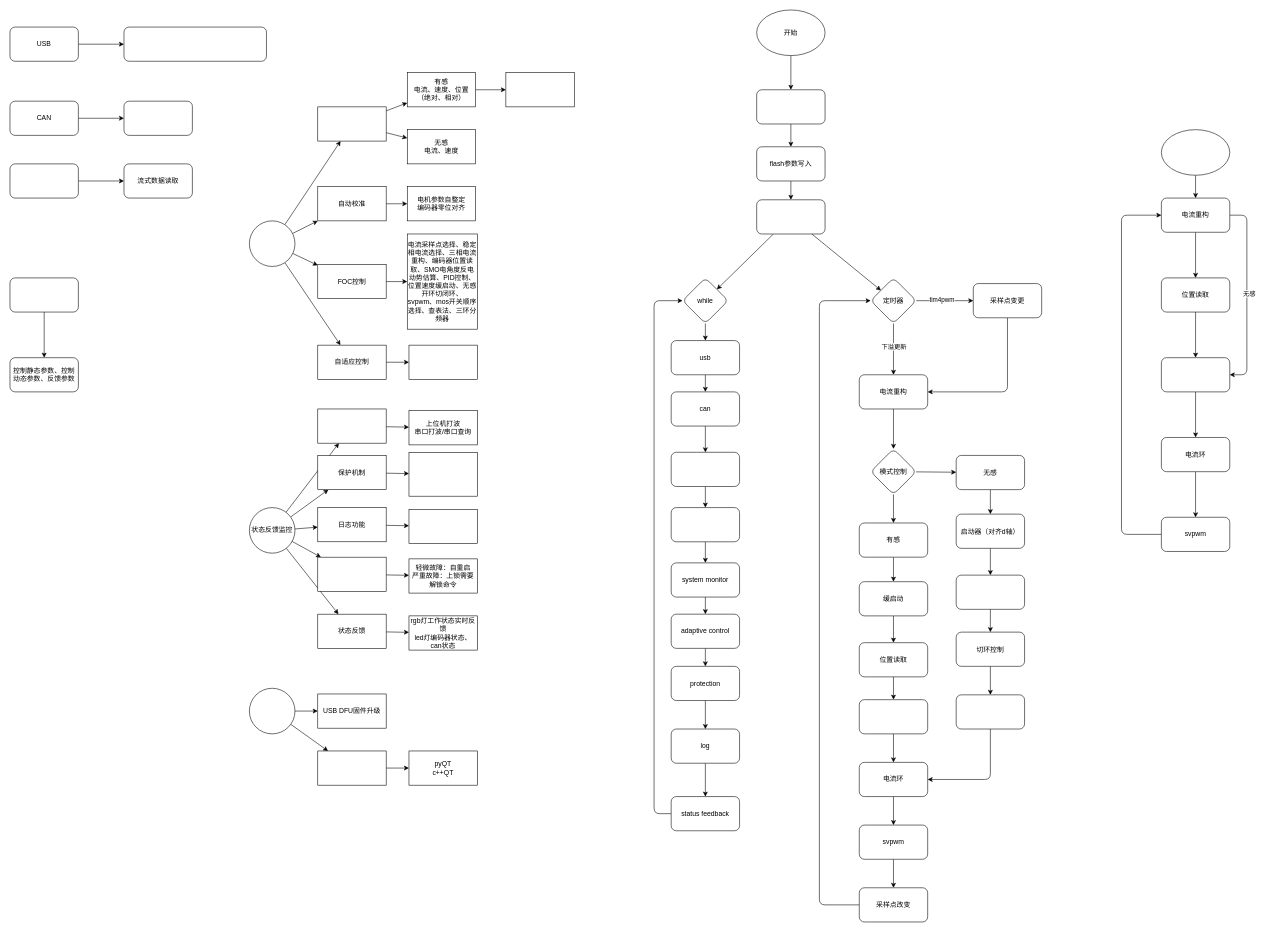
Image size: 1265x932. Some labels were removed from this diagram. Here are the shapes that lost their labels. From the top down, the box of each, then its label:
(123, 27, 266, 61): 参数写入、参数读取、流式数据读取、控制参数写入、控制模式写入、状态数据读取
(505, 72, 574, 107): 位置模式中需要输入的位置为目标的位置 计算完减速比之后的位置需要输入减速比
(756, 89, 825, 124): 驱动层初始化
(123, 101, 192, 135): 模式改写，控制参数写入、状态参数读取
(317, 106, 386, 141): 多模式运行
(1161, 129, 1230, 175): 整定开始
(9, 163, 78, 198): Usart
(756, 199, 825, 234): 服务层、控制层、应用层、工具初始化
(249, 220, 295, 266): 核心控制
(9, 277, 78, 312): 数据类型
(408, 345, 477, 379): 温度调控风扇或电流限制 模糊pid、阻尼控制、弱磁控制
(1161, 357, 1230, 392): smo整定
(317, 408, 386, 443): 数据流监控
(408, 452, 477, 496): 过流、过压、欠压、过热、堵转、编码器磁场弱、无编码器、can通讯丢失、位置超限
(671, 452, 740, 486): 无线usart
(408, 509, 477, 543): 重要参数记录 触发式记录10ms数据 运行状态、错误记录
(671, 507, 740, 542): command
(317, 557, 386, 591): 分级故障恢复
(956, 575, 1025, 609): smo
(249, 688, 295, 734): 辅助功能
(859, 699, 928, 734): 位置/速度/阻尼
(956, 694, 1025, 729): 速度环
(317, 750, 386, 785): USB CDC上位机
